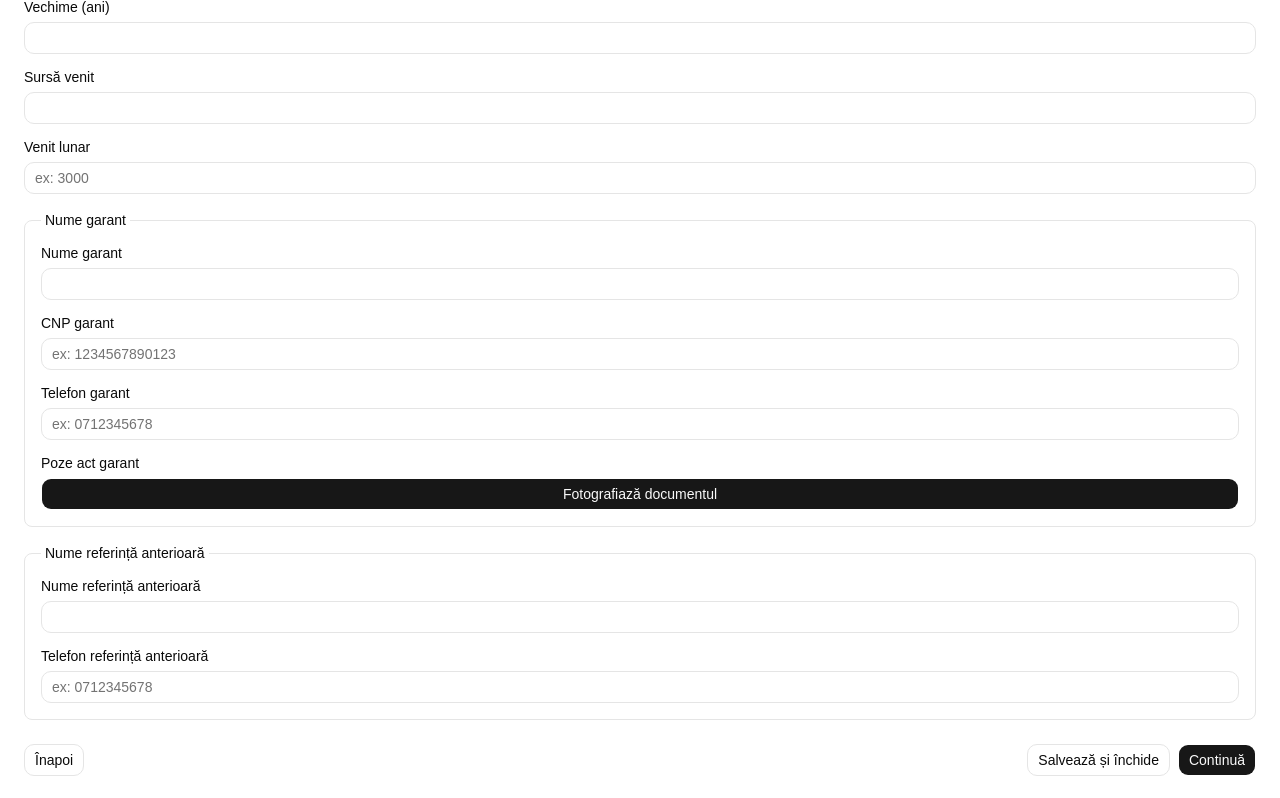
OnboardingWizardPage — Step 3 financial data + guarantor (FR-TEN-04) › shows an inline error per missing mandatory field on Continue
(page scrolled)
Click the button "Continuă".
click(1217, 760)  # box [1178,744,1256,776]
(page scrolled)
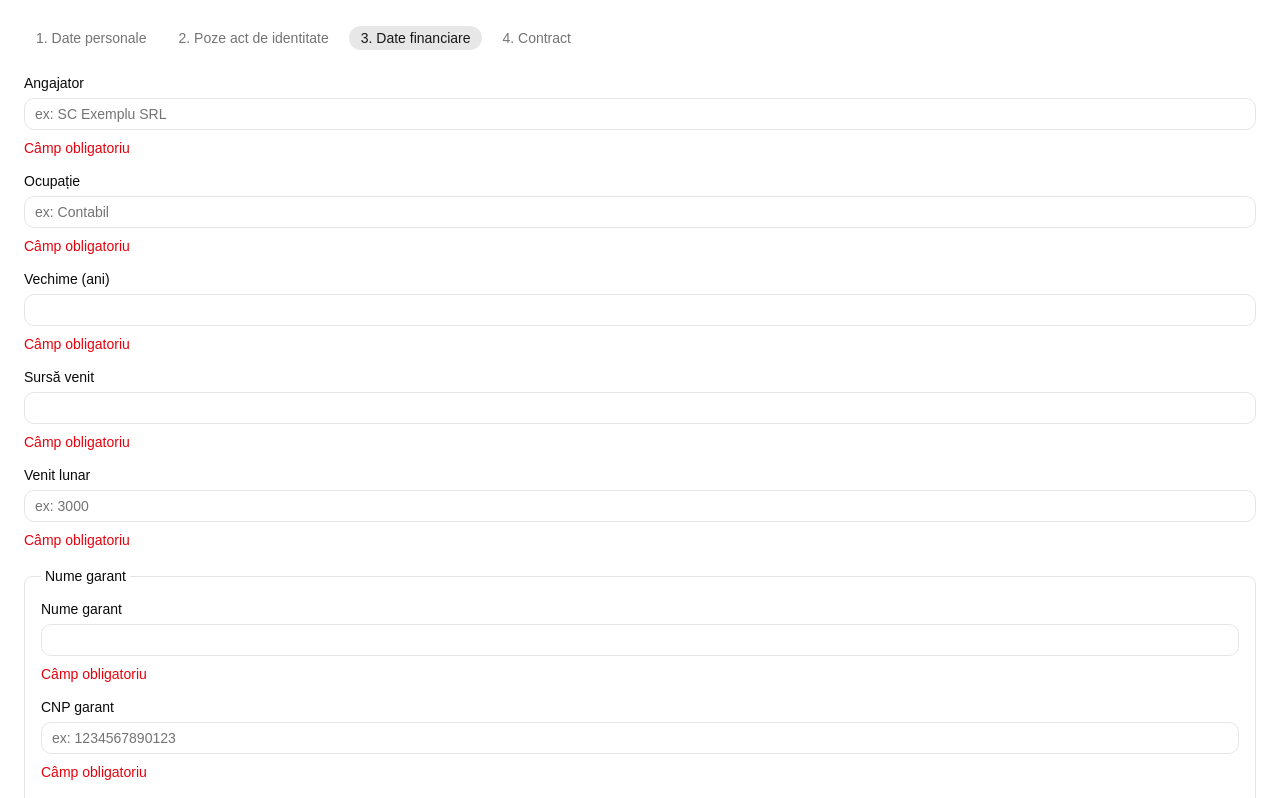
Check: the text "Câmp obligatoriu" below "Angajator" is shown, box [24,140,130,156]
